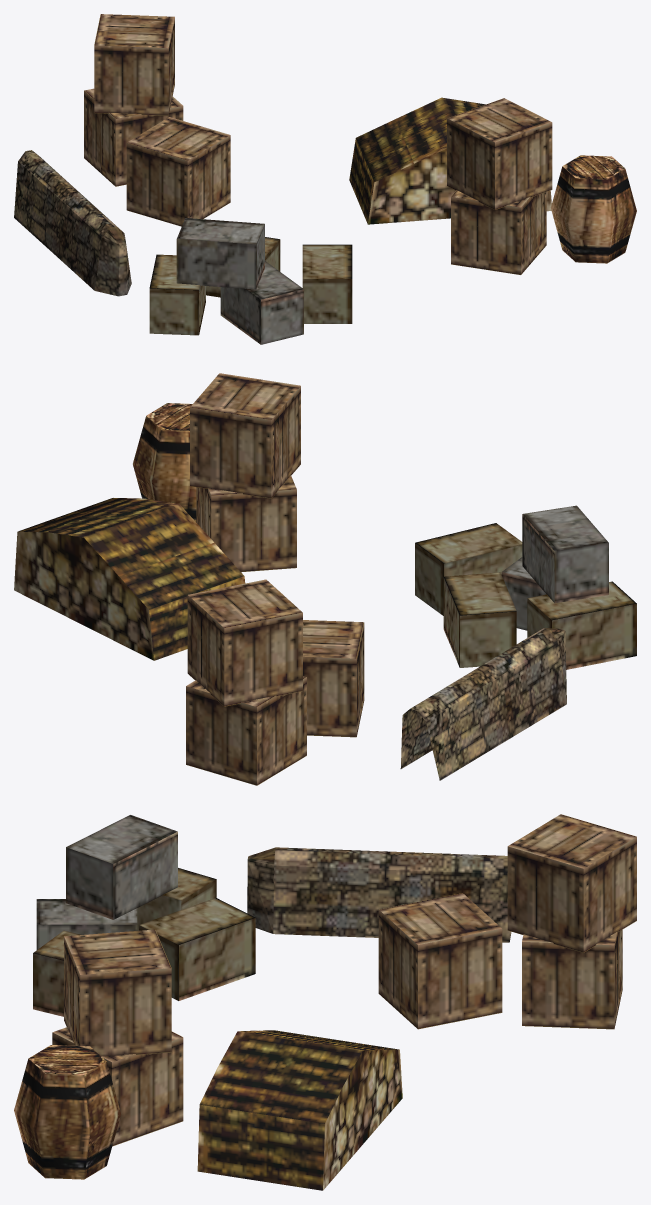
Rendered from iber_storehouse_a.dae.
The picture shows the model from 3 angles, top to bottom: view 1: azimuth 30°, elevation 25°; view 2: azimuth 150°, elevation 25°; view 3: azimuth 270°, elevation 25°; orthographic projection. The views are drawn at different scales.
Parts seen in each view (by area): view 1: Object05; view 2: Object05; view 3: Object05.
Boxes of the visible parts, box(x1,y1,x2,y2) form: Object05: box(14, 14, 636, 344); Object05: box(14, 373, 636, 785); Object05: box(14, 814, 636, 1190).
Size of the model in its own units: 10.68 by 10.06 by 2.99.
